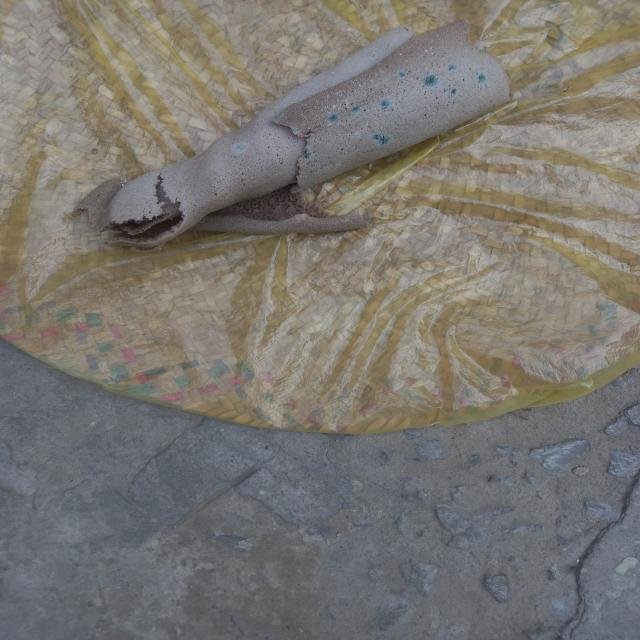injera_mold: (265, 109, 288, 126), (368, 133, 393, 147), (420, 74, 436, 92), (227, 142, 251, 154), (300, 145, 313, 162), (394, 70, 410, 82), (442, 63, 462, 72), (474, 72, 488, 84), (381, 99, 394, 109), (325, 113, 340, 121), (323, 103, 338, 110), (293, 130, 303, 139), (350, 105, 360, 113), (449, 88, 458, 96), (335, 91, 345, 98), (399, 52, 403, 58)
